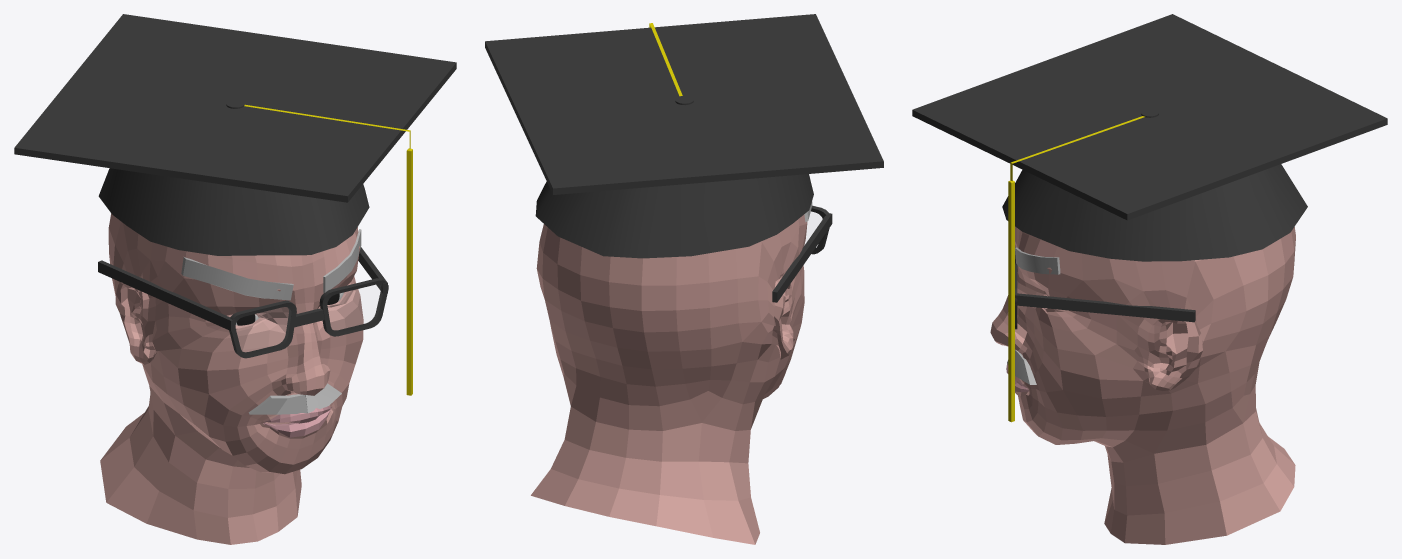
The model's file is GradOldMan2.fbx.
The picture shows the model from 3 angles, left to right: view 1: azimuth 30°, elevation 25°; view 2: azimuth 150°, elevation 25°; view 3: azimuth 270°, elevation 25°; orthographic projection. The views are drawn at different scales.
Parts seen in each view (by area): view 1: Face, HatVisor, HatHead, RightEyeBrow, RightHandle, BigTassel, MoustachePoly, LeftLens, RightLens, LeftEyeBrow; view 2: Face, HatVisor, HatHead, RightHandle; view 3: Face, HatVisor, HatHead, LeftHandle, BigTassel, LeftEyeBrow.
Boxes of the visible parts, x1,y1,x2,y2 form: Face: (100,213,363,544); HatVisor: (14,14,456,202); HatHead: (98,168,369,255); RightEyeBrow: (181,257,293,300); RightHandle: (98,260,234,330); BigTassel: (406,148,412,395); MoustachePoly: (248,383,341,414); LeftLens: (319,278,388,336); RightLens: (229,300,296,358); LeftEyeBrow: (323,229,361,292); Face: (531,214,807,544); HatVisor: (485,14,883,194); HatHead: (535,174,813,258); RightHandle: (772,213,832,302); Face: (990,226,1295,544); HatVisor: (912,14,1387,220); HatHead: (1002,164,1307,261); LeftHandle: (1015,293,1195,322); BigTassel: (1008,180,1014,422); LeftEyeBrow: (1015,247,1060,274).
Size of the model in its own units: 20.86 by 20 by 20.93.
